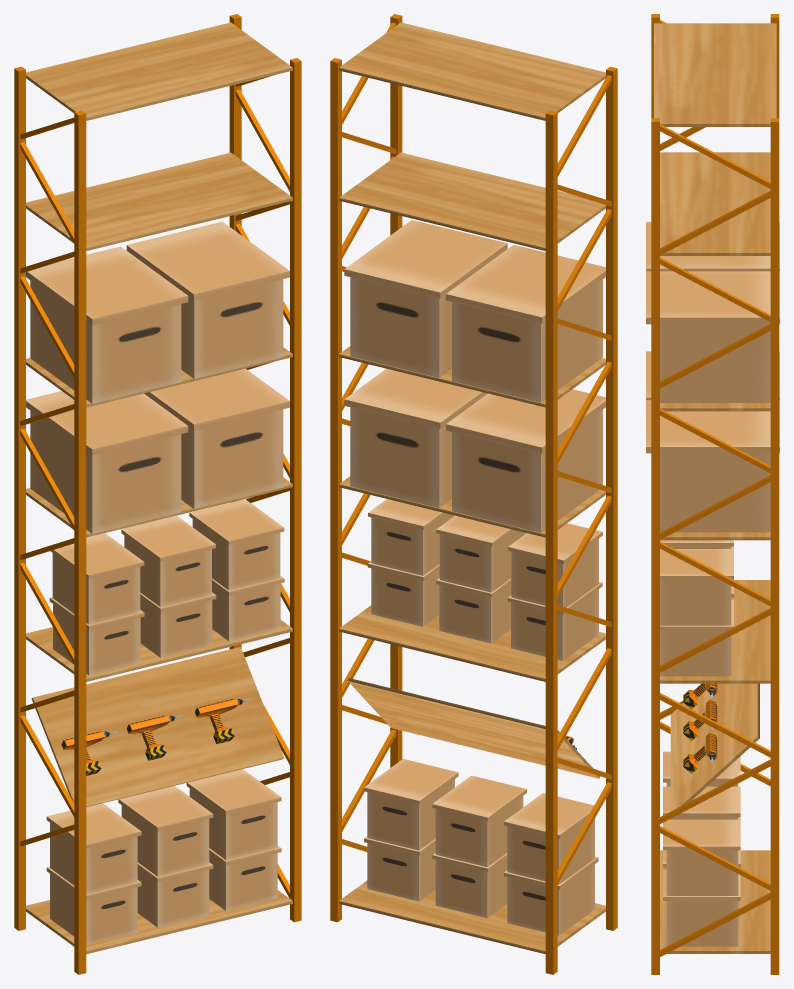
Rendered from Drill_Orange_Rack.fbx.
3 renders of one model, left to right at view 1: azimuth 30°, elevation 25°; view 2: azimuth 150°, elevation 25°; view 3: azimuth 270°, elevation 25°, orthographic.
Visible parts, largest first — view 1: Drill_Orange_Rack; view 2: Drill_Orange_Rack; view 3: Drill_Orange_Rack.
Part boxes in pixels (box(x1,y1,x2,y2)): Drill_Orange_Rack: box(14, 14, 301, 974); Drill_Orange_Rack: box(330, 14, 617, 974); Drill_Orange_Rack: box(646, 14, 779, 974).
Bounding box in the file's own units: 2 × 7.37 × 1.05.
